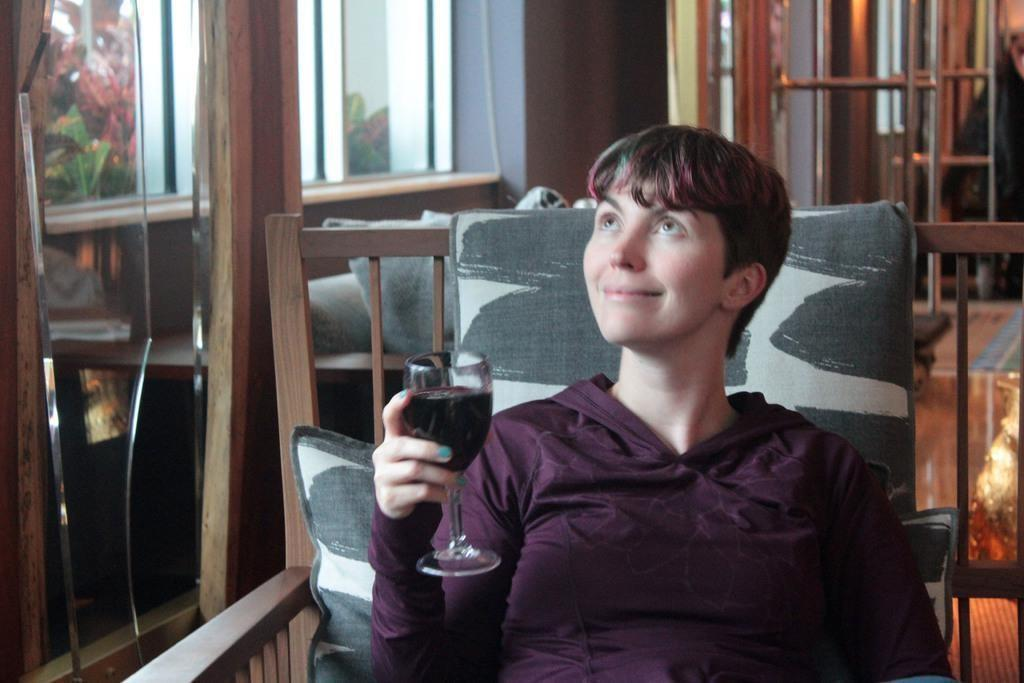glass-wine: (402, 348, 510, 575)
